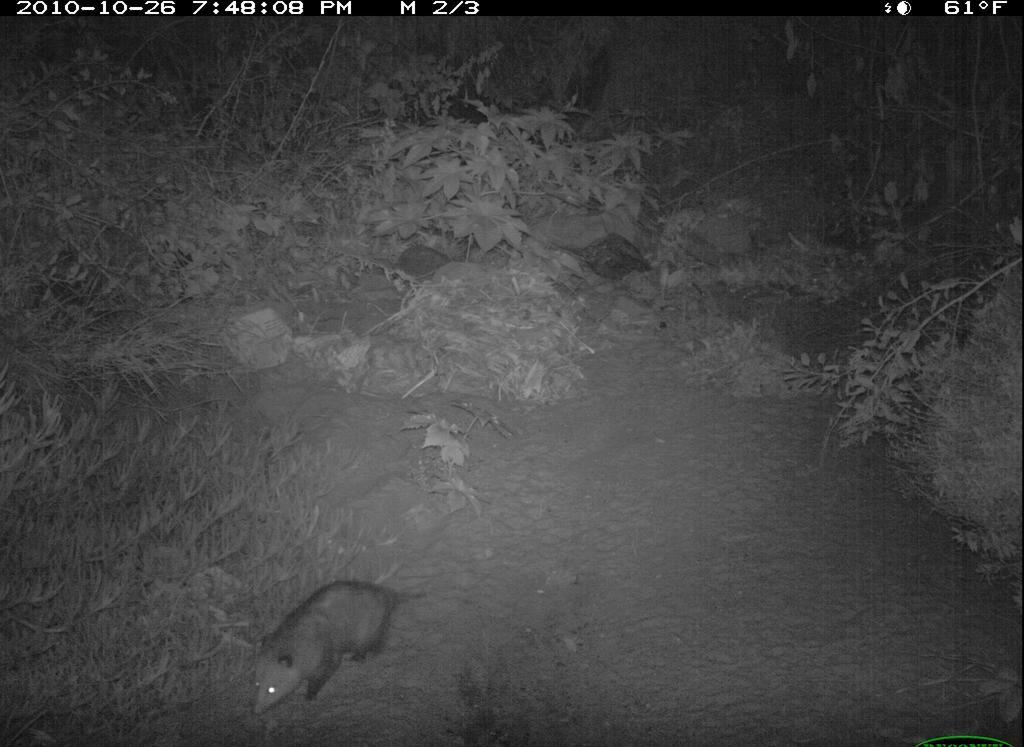opossum: (237, 566, 455, 725)
